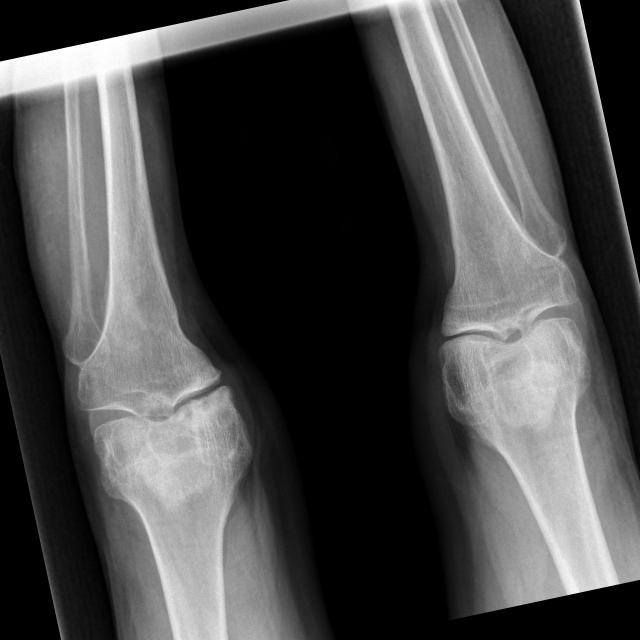Knee: (68, 316, 256, 483), (422, 246, 603, 414)
